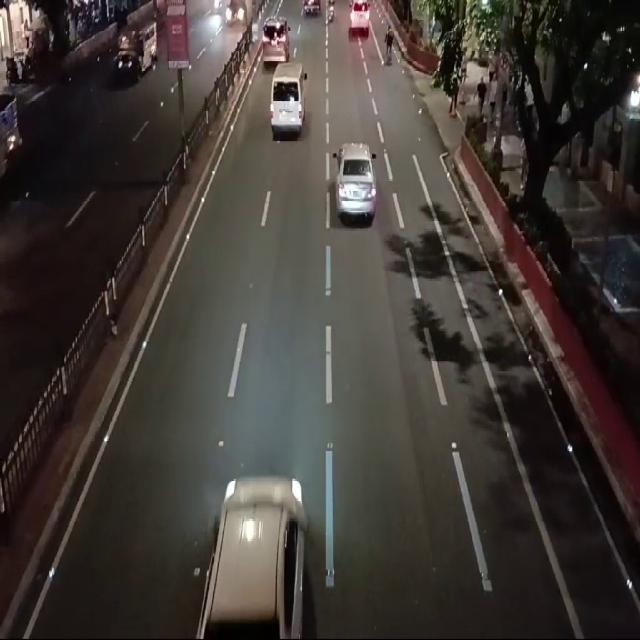car: (208, 472, 312, 640), (331, 130, 380, 238), (270, 60, 308, 141), (258, 17, 292, 64), (346, 3, 374, 37), (224, 1, 248, 29)
jeepney: (115, 19, 157, 82)
